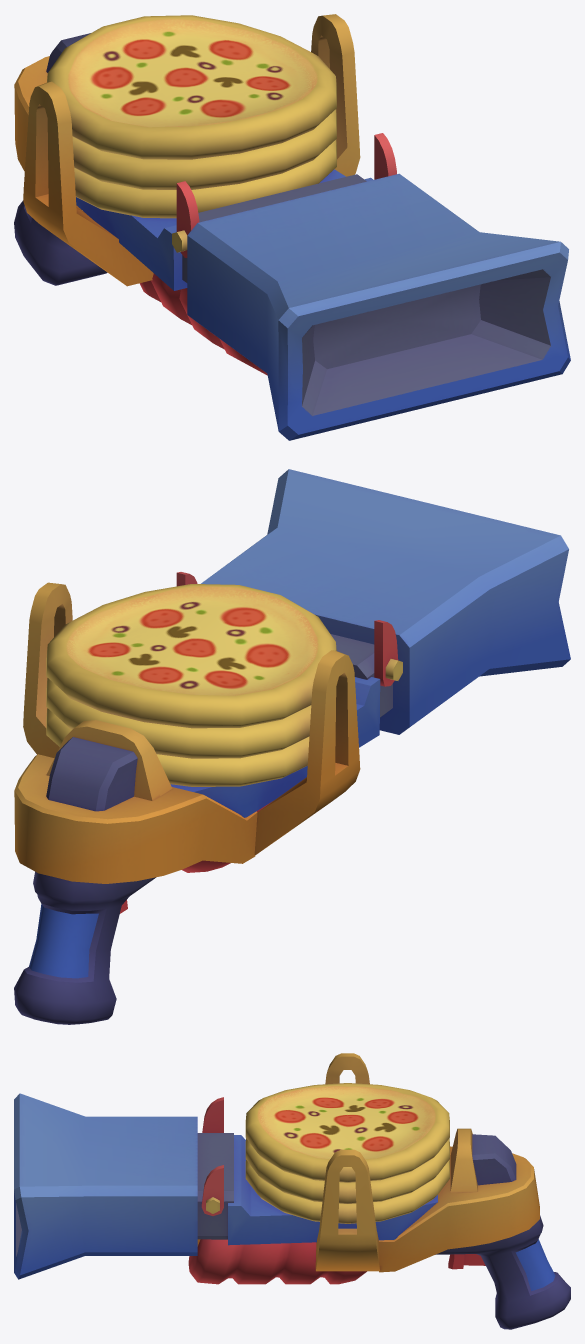
Rendered from LowPoly_PizzaGun.fbx.
3 views of the same model, one above another, from view 1: azimuth 30°, elevation 25°; view 2: azimuth 150°, elevation 25°; view 3: azimuth 270°, elevation 25° (orthographic). The views are drawn at different scales.
Visible parts, largest first — view 1: PizzaCannon, Pizza_1, Pizza_2, Pizza_3; view 2: PizzaCannon, Pizza_1, Pizza_2, Pizza_3; view 3: PizzaCannon, Pizza_1, Pizza_2, Pizza_3.
Boxes of the visible parts, x1=… form: PizzaCannon: x1=14, y1=14, x2=570, y2=440; Pizza_1: x1=47, y1=15, x2=336, y2=159; Pizza_2: x1=72, y1=109, x2=336, y2=189; Pizza_3: x1=74, y1=139, x2=336, y2=218; PizzaCannon: x1=14, y1=469, x2=570, y2=1024; Pizza_1: x1=46, y1=584, x2=336, y2=728; Pizza_2: x1=46, y1=678, x2=311, y2=758; Pizza_3: x1=46, y1=708, x2=309, y2=786; PizzaCannon: x1=14, y1=1053, x2=570, y2=1329; Pizza_1: x1=245, y1=1083, x2=449, y2=1182; Pizza_2: x1=245, y1=1138, x2=449, y2=1203; Pizza_3: x1=245, y1=1160, x2=449, y2=1223.
Bounding box in the file's own units: 131 × 129 × 300.
